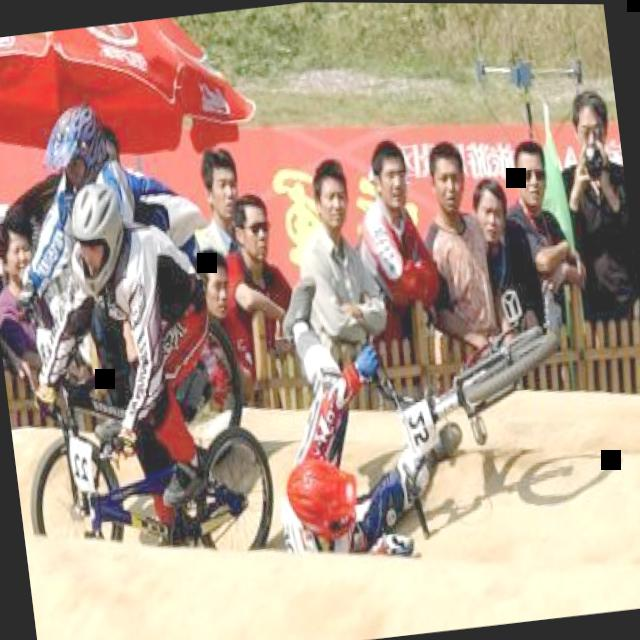Fall-Detected: (247, 328, 488, 586)
